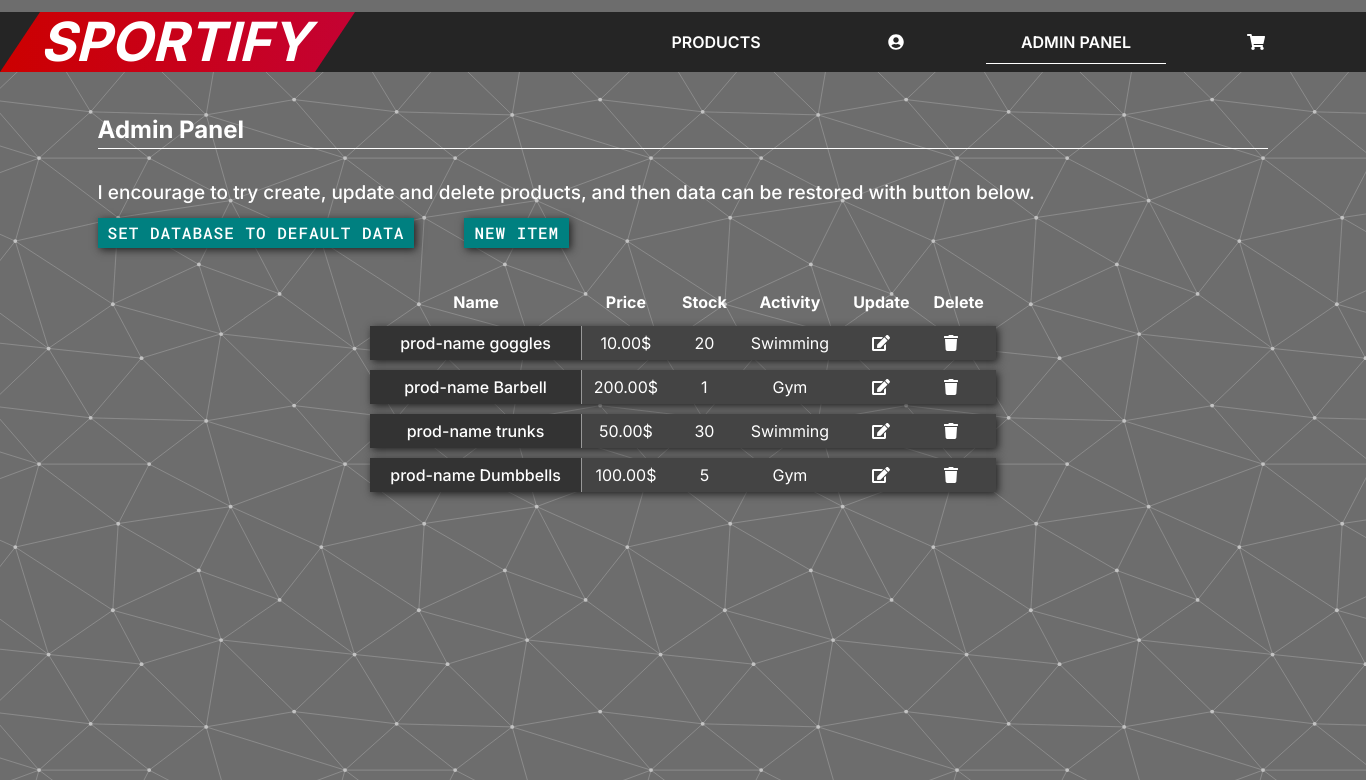
admin panel › navigates to product create form
Click the link "New Item". click: coordinates (517, 232)
box: [464,218,569,248]
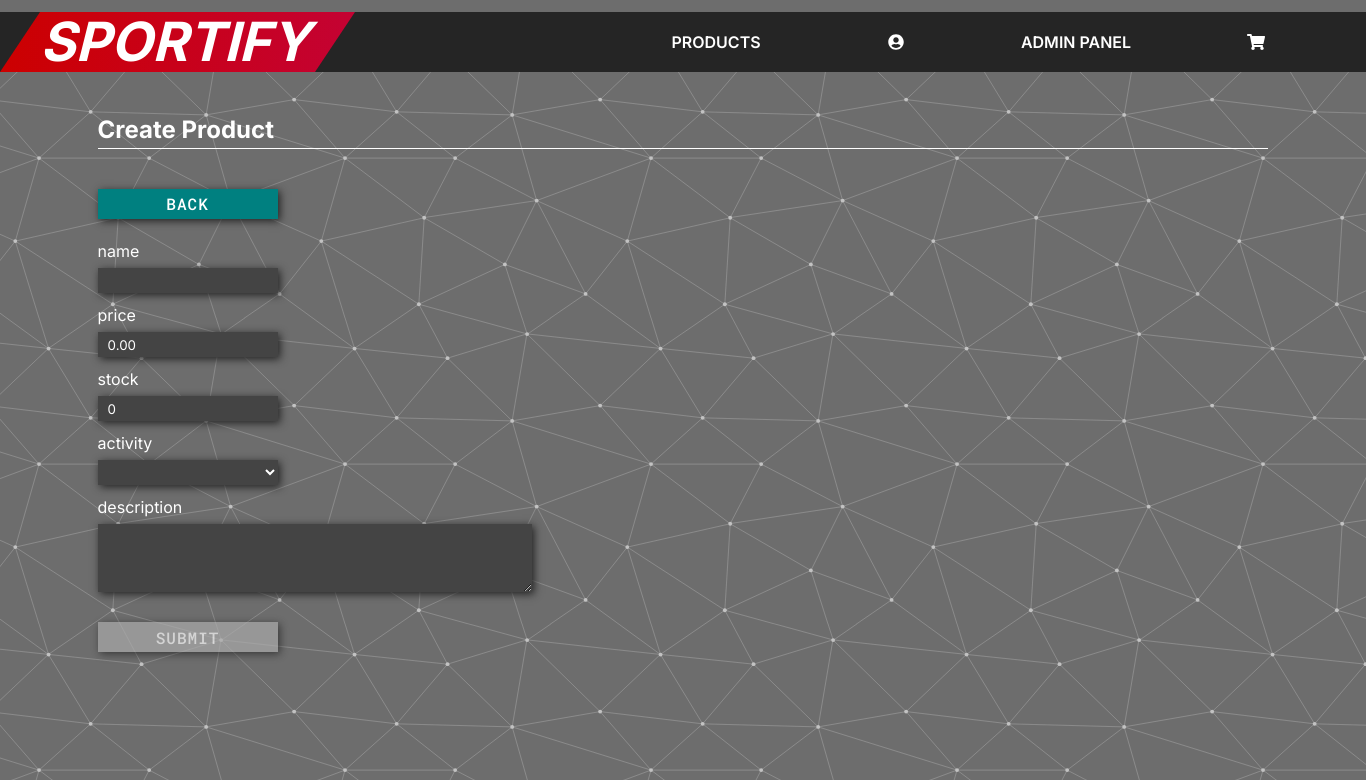
Expected: the heading "Create Product" is shown, [98,112,1268,149]
